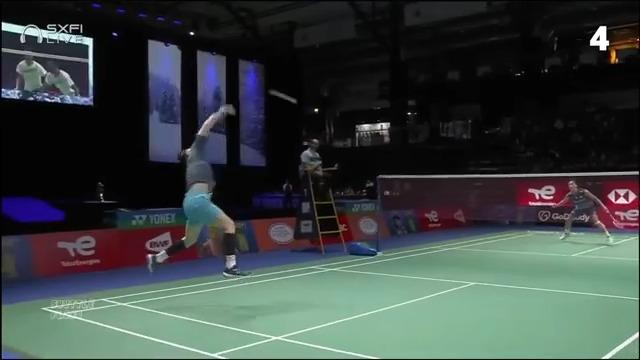Shuttlecock: (274, 90, 300, 108)
